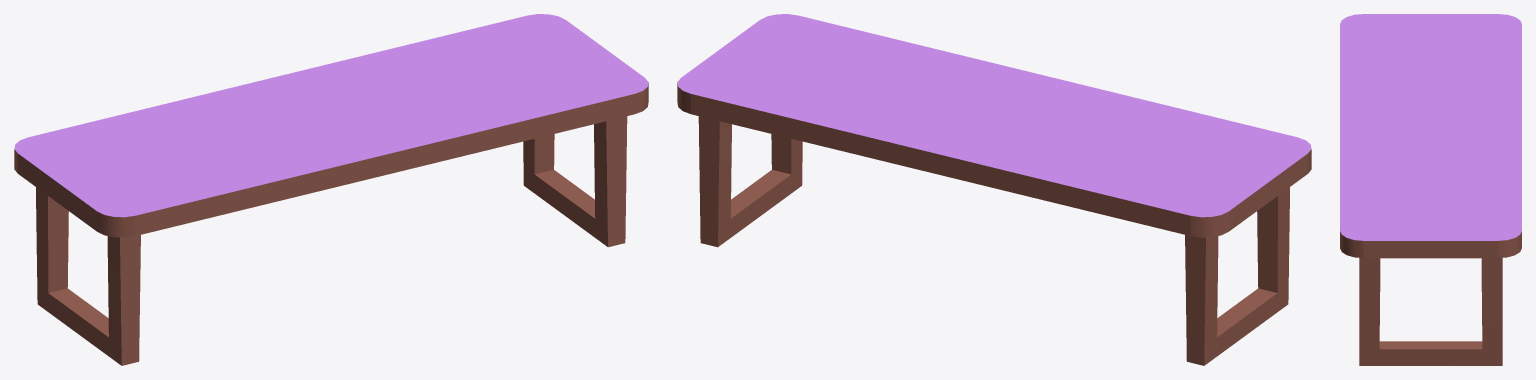
The model's file is TableC3_geo.fbx.
3 renders of one model, left to right at view 1: azimuth 30°, elevation 25°; view 2: azimuth 150°, elevation 25°; view 3: azimuth 270°, elevation 25°, orthographic. The views are drawn at different scales.
Visible parts, largest first — view 1: TableC3_geo; view 2: TableC3_geo; view 3: TableC3_geo.
Part boxes in pixels (x1,y1,x2,y2): TableC3_geo: (14, 14, 648, 365); TableC3_geo: (677, 14, 1311, 365); TableC3_geo: (1340, 14, 1521, 365).
Bounding box in the file's own units: 2.47 × 0.8367 × 0.681.
